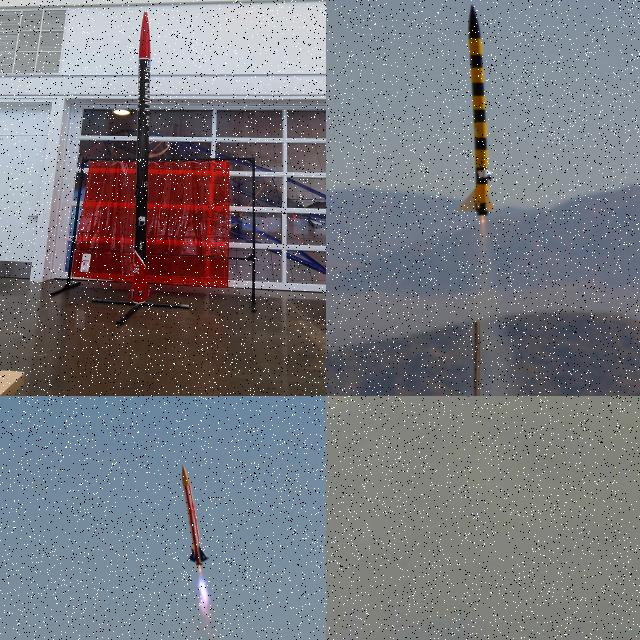Rocket: (454, 3, 498, 217), (128, 6, 153, 303), (180, 465, 211, 566)
